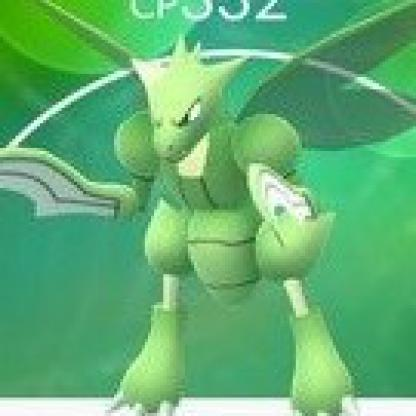Scyther: (1, 1, 399, 402)
